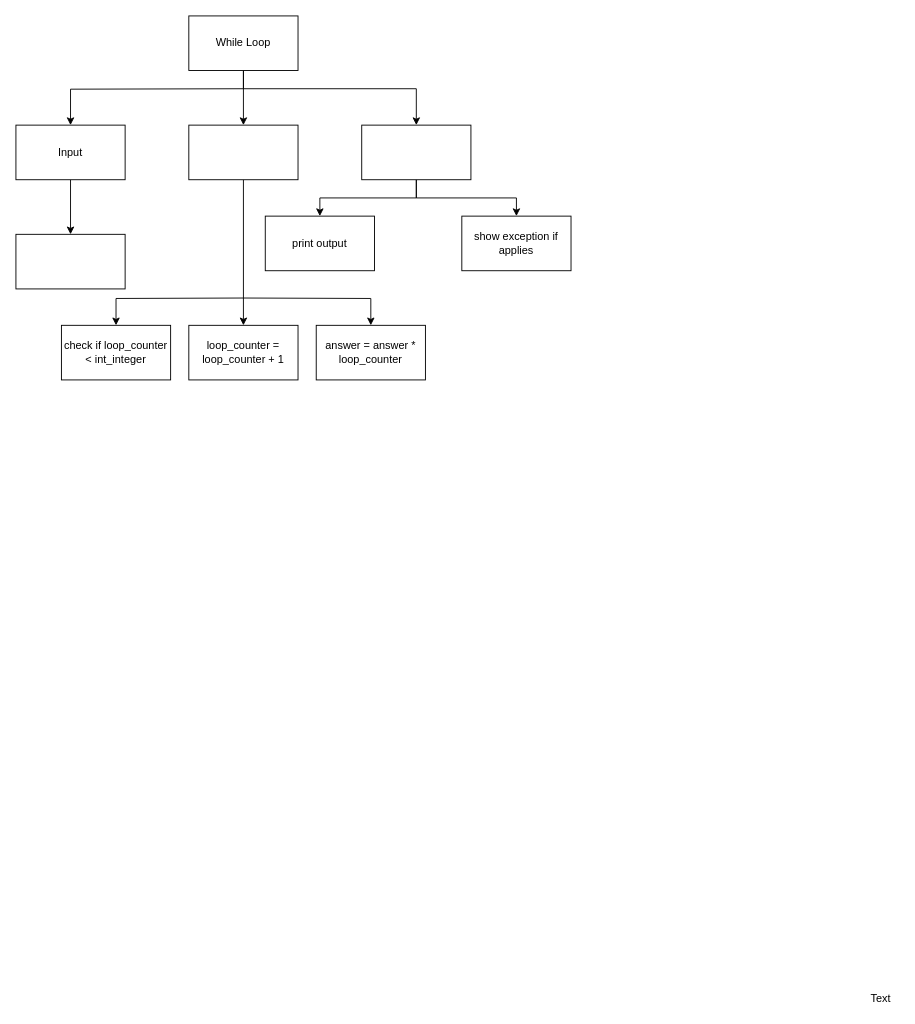
The diagram is 915 pixels wide and 1024 high, and some of its shapes have lost their labels. Here are the shapes that lost their labels. From the top down, the box of each, then its label:
(188, 124, 298, 180): Process
(361, 124, 471, 180): Output
(15, 233, 125, 289): get string_integer
